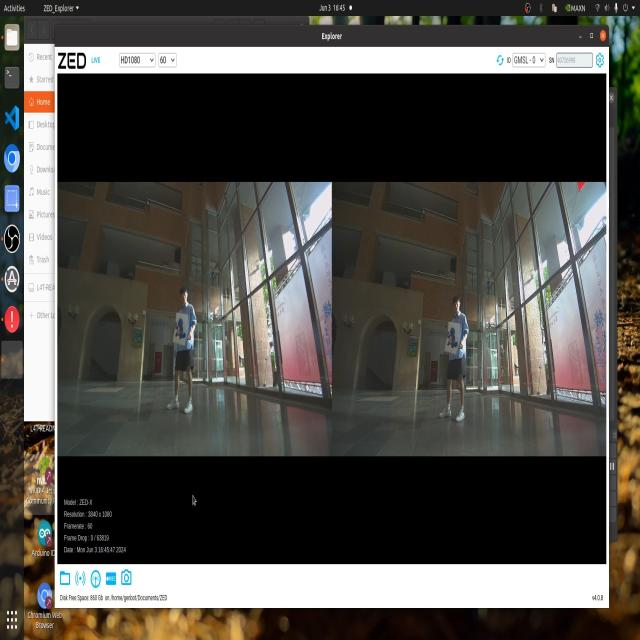blue: (446, 326, 459, 357), (174, 317, 187, 346)
